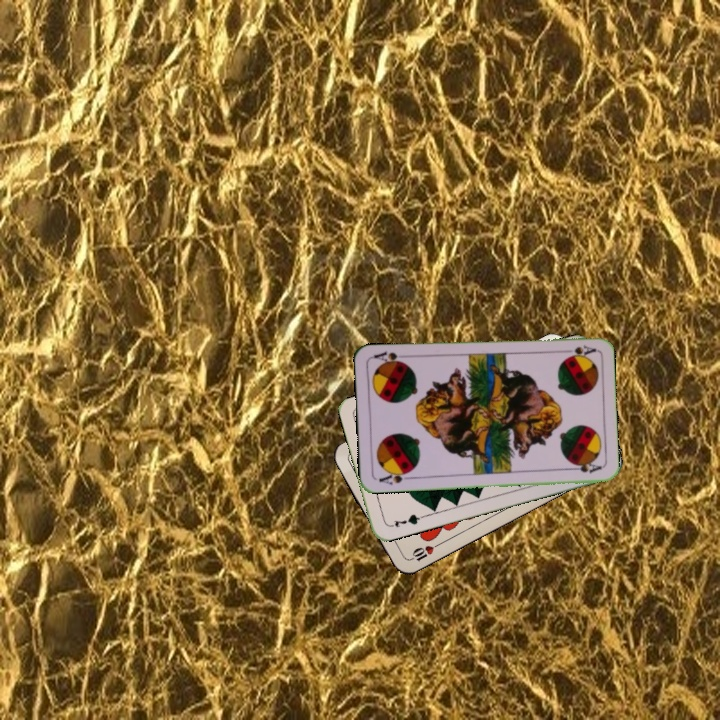G7: (385, 510, 425, 530)
H10: (404, 540, 442, 564)
SA: (375, 467, 415, 487), (557, 341, 598, 359)
